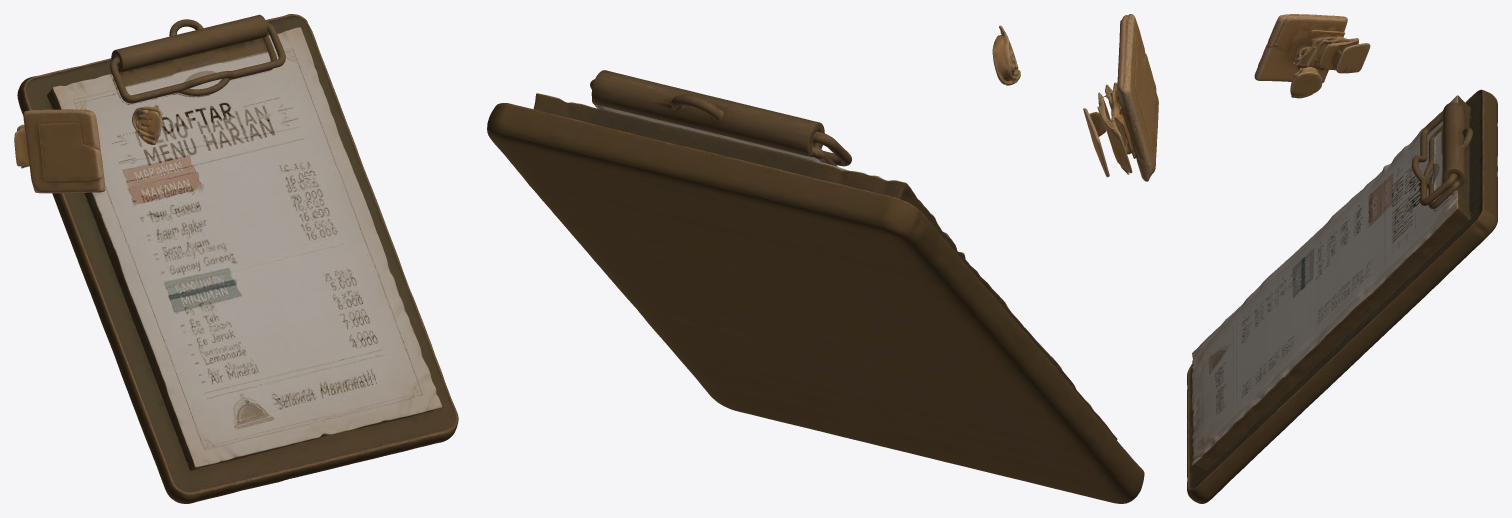
Rendered from tripo_convert_6a9cf109-f9d0-4b2a-b081-d47708cbb3f3.fbx.
3 views of the same model, side by side, from view 1: azimuth 30°, elevation 25°; view 2: azimuth 150°, elevation 25°; view 3: azimuth 270°, elevation 25° (orthographic). The views are drawn at different scales.
Visible parts, largest first — view 1: tripo_node_6a9cf109; view 2: tripo_node_6a9cf109; view 3: tripo_node_6a9cf109.
Boxes of the visible parts, x1,y1,x2,y2 form: tripo_node_6a9cf109: [14, 14, 458, 503]; tripo_node_6a9cf109: [487, 14, 1158, 503]; tripo_node_6a9cf109: [1187, 14, 1497, 503].
Size of the model in its own units: 100 by 79.77 by 98.35.
1 material, 1 textured.
